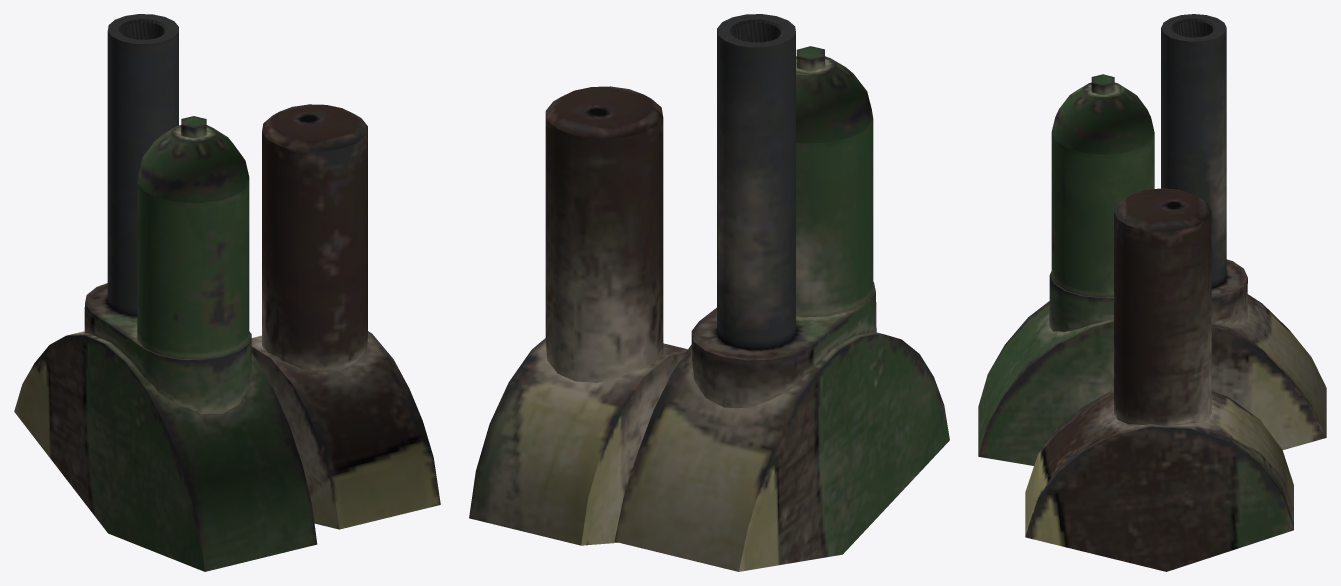
Rendered from Gun_01.glb.
3 renders of one model, left to right at view 1: azimuth 30°, elevation 25°; view 2: azimuth 150°, elevation 25°; view 3: azimuth 270°, elevation 25°, orthographic. The views are drawn at different scales.
Visible parts, largest first — view 1: set_0_group_0; view 2: set_0_group_0; view 3: set_0_group_0.
Part boxes in pixels (<box>): set_0_group_0: <box>14,14,440,571</box>; set_0_group_0: <box>469,14,949,571</box>; set_0_group_0: <box>978,14,1326,571</box>.
Bounding box in the file's own units: 0.326 × 0.5908 × 0.4118.
Materials: 1 (1 with a texture image).
